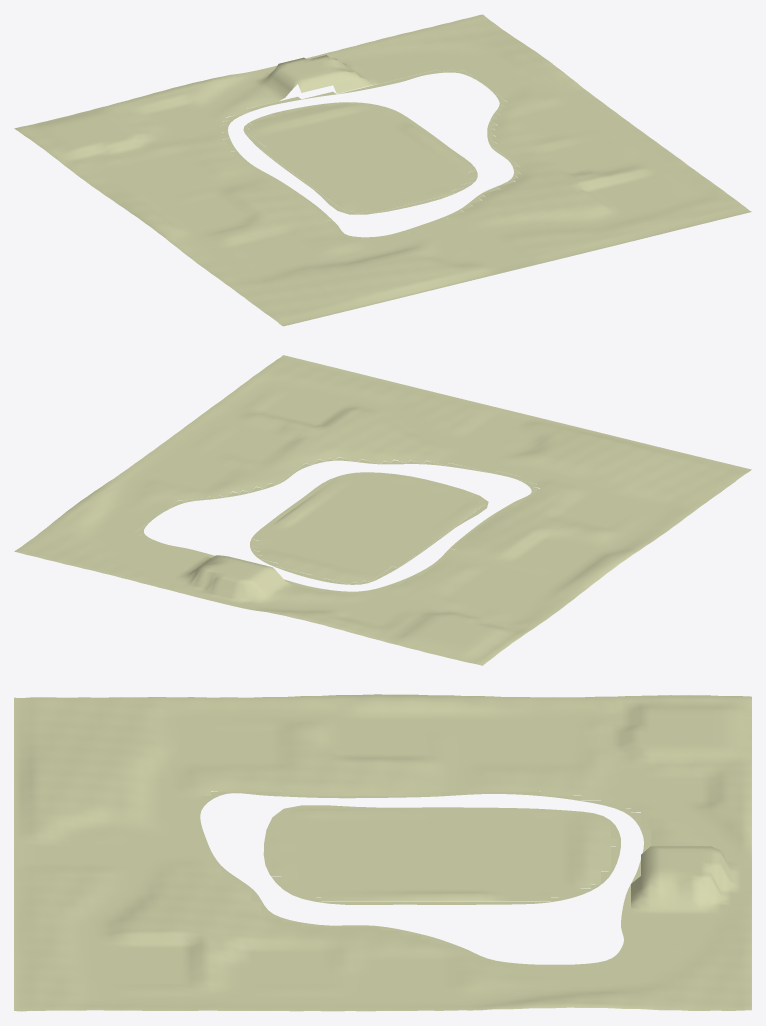
The model's file is garden-ground.glb.
The picture shows the model from 3 angles, top to bottom: view 1: azimuth 30°, elevation 25°; view 2: azimuth 150°, elevation 25°; view 3: azimuth 270°, elevation 25°; orthographic projection. The views are drawn at different scales.
Visible parts, largest first — view 1: Urban_Clipped_Garden_Earth; view 2: Urban_Clipped_Garden_Earth; view 3: Urban_Clipped_Garden_Earth.
Boxes of the visible parts, x1,y1,x2,y2 form: Urban_Clipped_Garden_Earth: (14,14,751,326); Urban_Clipped_Garden_Earth: (14,355,751,665); Urban_Clipped_Garden_Earth: (14,694,751,1011).
Size of the model in its own units: 297 by 8.05 by 296.
Materials: 1 (1 with a texture image).
